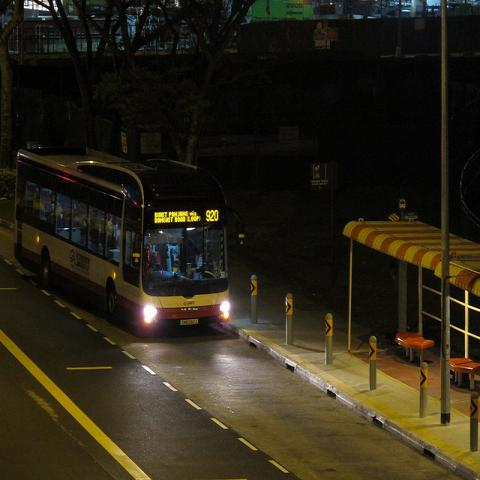bus: (12, 142, 244, 327)
